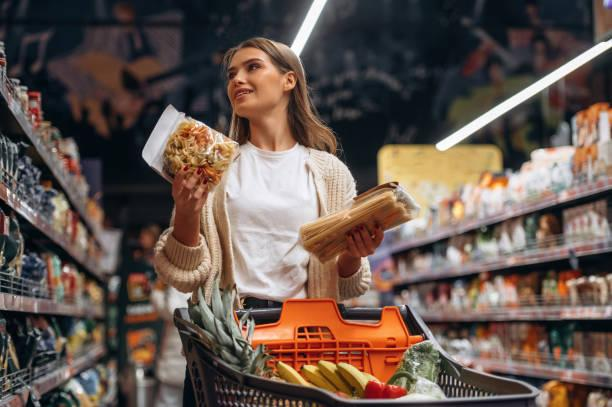Cart: (175, 308, 405, 406), (270, 301, 430, 380), (407, 350, 536, 406)
Person: (156, 38, 382, 305)
article: (300, 182, 419, 261), (186, 282, 273, 376), (143, 105, 237, 188)
